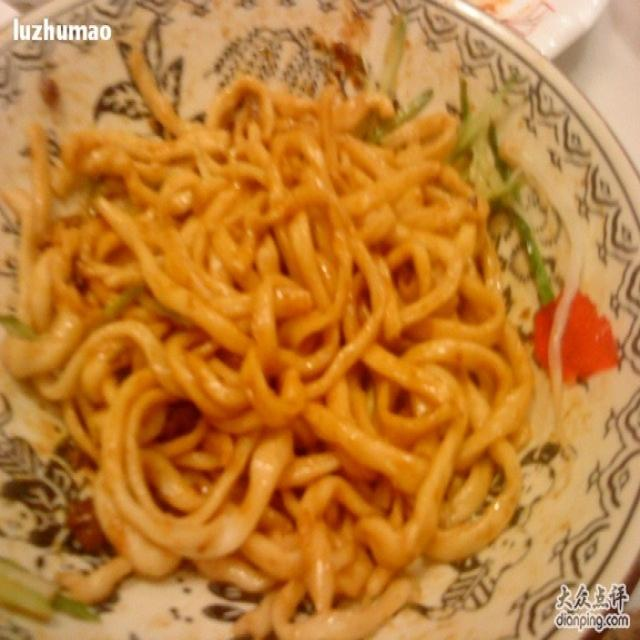面条主食: (15, 27, 578, 625)
